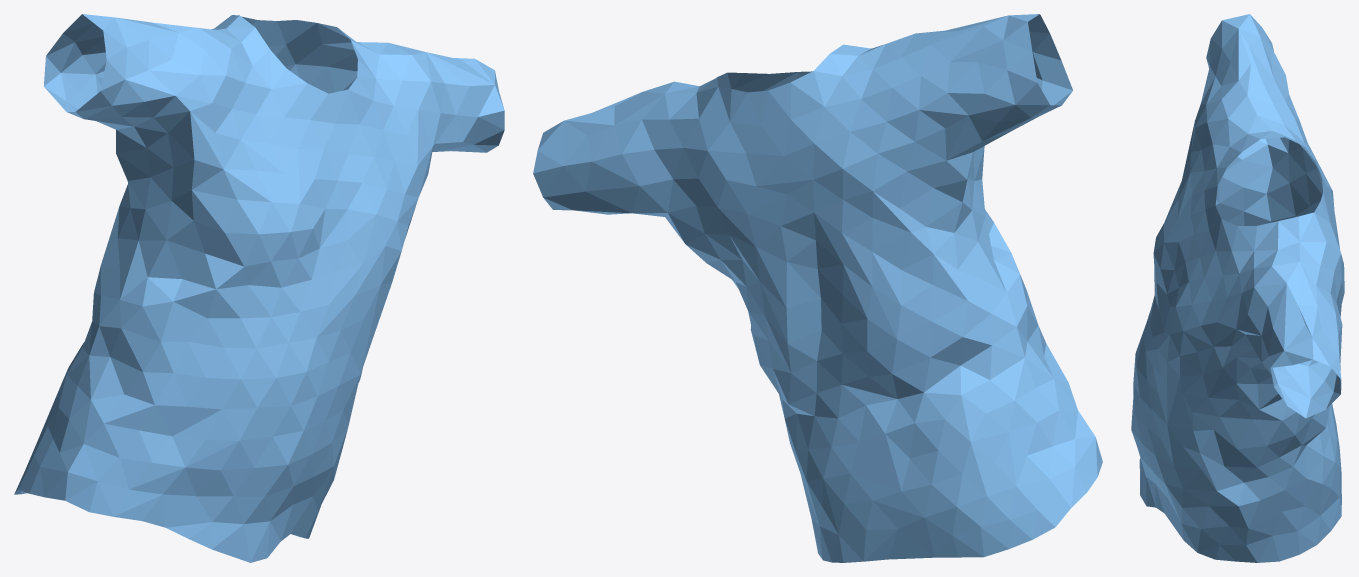
Rendered from tshirt.glb.
3 renders of one model, left to right at view 1: azimuth 30°, elevation 25°; view 2: azimuth 150°, elevation 25°; view 3: azimuth 270°, elevation 25°, orthographic. The views are drawn at different scales.
Visible parts, largest first — view 1: boundary003; view 2: boundary003; view 3: boundary003.
Boxes of the visible parts, <box> form: boundary003: <box>14,14,504,562</box>; boundary003: <box>533,14,1102,562</box>; boundary003: <box>1131,14,1344,562</box>.
Size of the model in its own units: 5.78 by 6.11 by 2.52.
